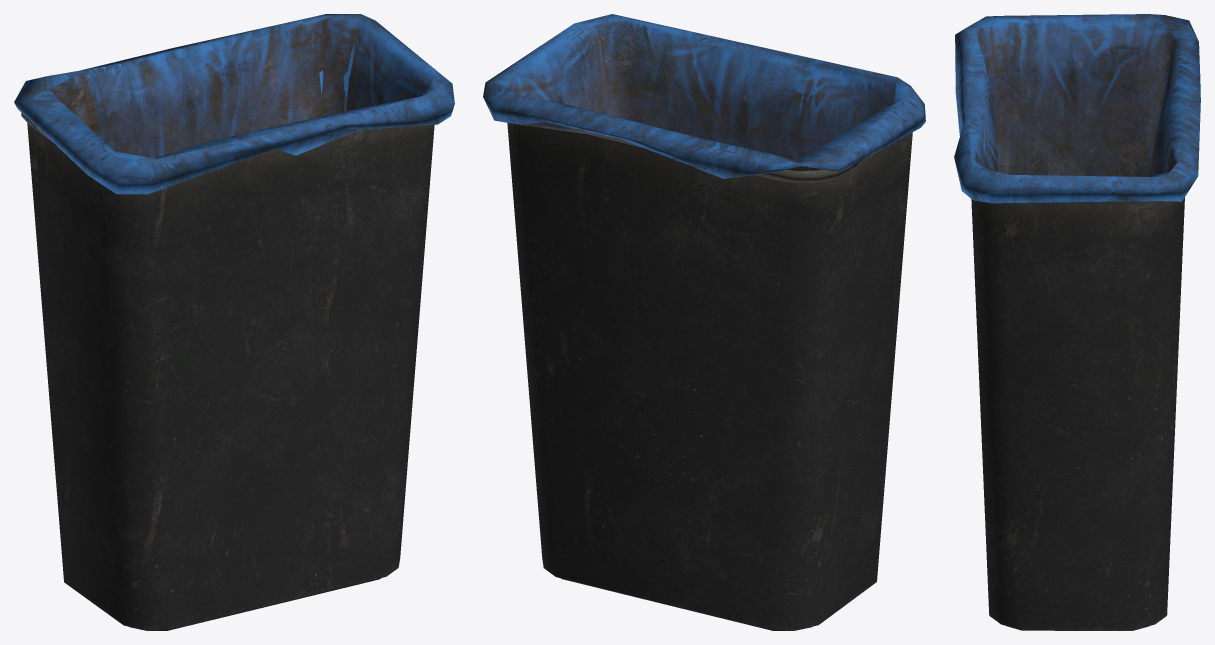
The model's file is Trashbin.fbx.
3 renders of one model, left to right at view 1: azimuth 30°, elevation 25°; view 2: azimuth 150°, elevation 25°; view 3: azimuth 270°, elevation 25°, orthographic. The views are drawn at different scales.
Parts seen in each view (by area): view 1: TrashBag_low; view 2: TrashBag_low; view 3: TrashBag_low.
Boxes of the visible parts, left/top/right/bottom form: TrashBag_low: left=14, top=14, right=454, bottom=630; TrashBag_low: left=483, top=14, right=925, bottom=630; TrashBag_low: left=954, top=14, right=1200, bottom=630.
Size of the model in its own units: 33.74 by 43.54 by 20.38.
Materials: 1 (1 with a texture image).
